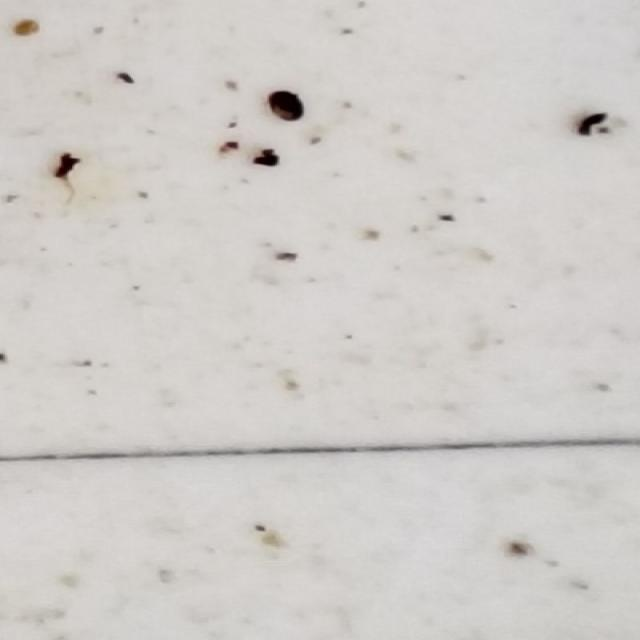varroa: (269, 87, 307, 124)
